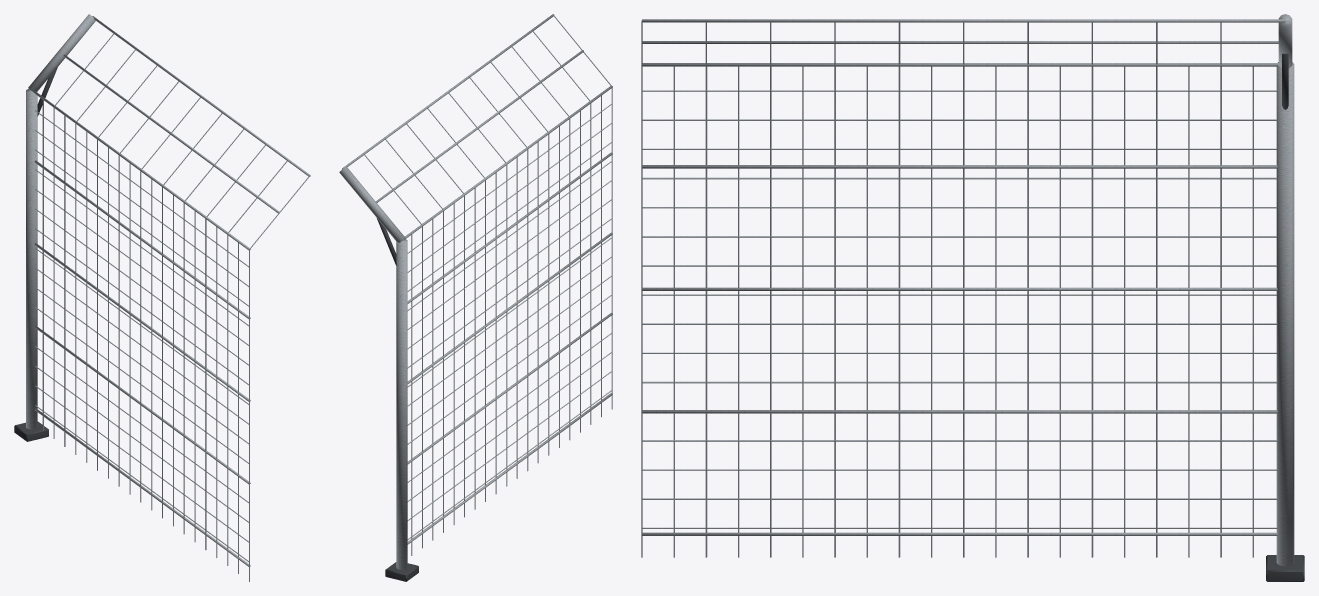
File: catch-fence_high.glb
3 views of the same model, side by side, from view 1: azimuth 30°, elevation 25°; view 2: azimuth 150°, elevation 25°; view 3: azimuth 270°, elevation 25° (orthographic). The views are drawn at different scales.
Visible parts, largest first — view 1: galvanised, dark-steel; view 2: galvanised, dark-steel; view 3: galvanised, dark-steel.
Part boxes in pixels (<box>): galvanised: <box>26,14,310,581</box>; dark-steel: <box>14,67,57,441</box>; galvanised: <box>339,14,612,569</box>; dark-steel: <box>377,218,418,581</box>; galvanised: <box>641,14,1294,566</box>; dark-steel: <box>1266,53,1304,581</box>.
Size of the model in its own units: 0.8006 by 4.13 by 4.12.
2 materials, 2 textured.
